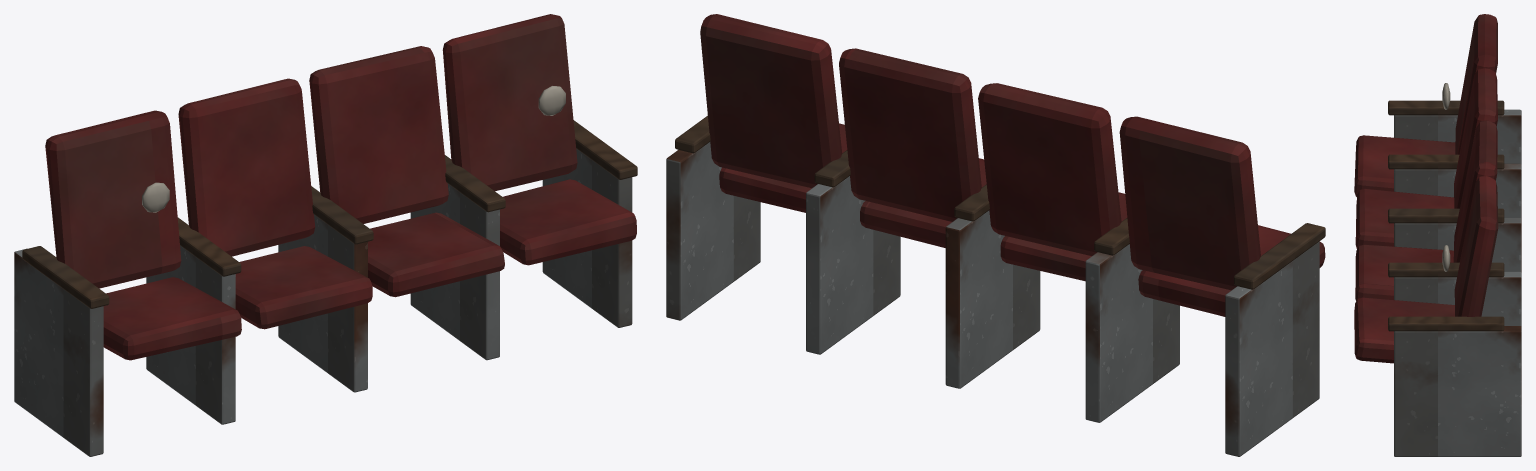
Rendered from Q01_cinema_seat_row_v1.glb.
3 views of the same model, side by side, from view 1: azimuth 30°, elevation 25°; view 2: azimuth 150°, elevation 25°; view 3: azimuth 270°, elevation 25° (orthographic). The views are drawn at different scales.
Visible parts, largest first — view 1: Q01_cinema_seat_row_v1; view 2: Q01_cinema_seat_row_v1; view 3: Q01_cinema_seat_row_v1.
Boxes of the visible parts, x1,y1,x2,y2 form: Q01_cinema_seat_row_v1: (14,14,637,456); Q01_cinema_seat_row_v1: (666,14,1325,456); Q01_cinema_seat_row_v1: (1354,14,1521,456).
Bounding box in the file's own units: 2.5 × 1.21 × 0.7903.
4 materials, 4 textured.
